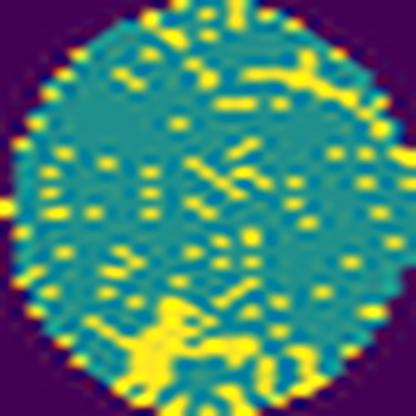Loc: (87, 293, 268, 407)
